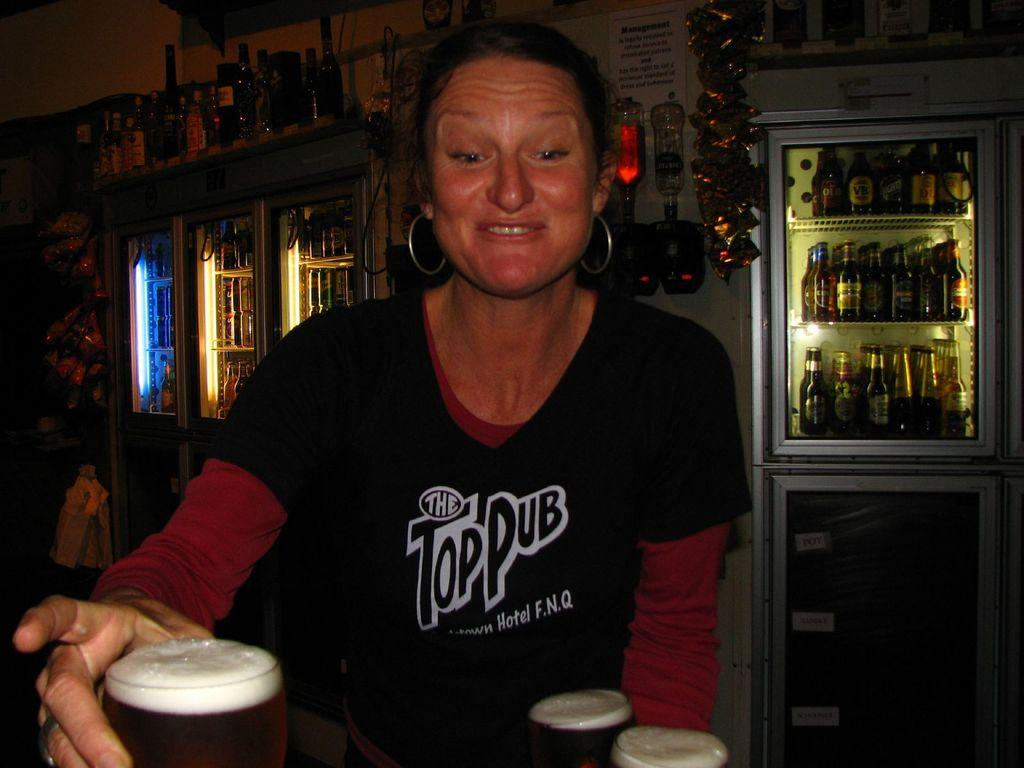handle: (742, 137, 780, 456), (754, 470, 780, 768), (244, 200, 271, 366), (102, 223, 124, 413), (172, 210, 189, 417)
